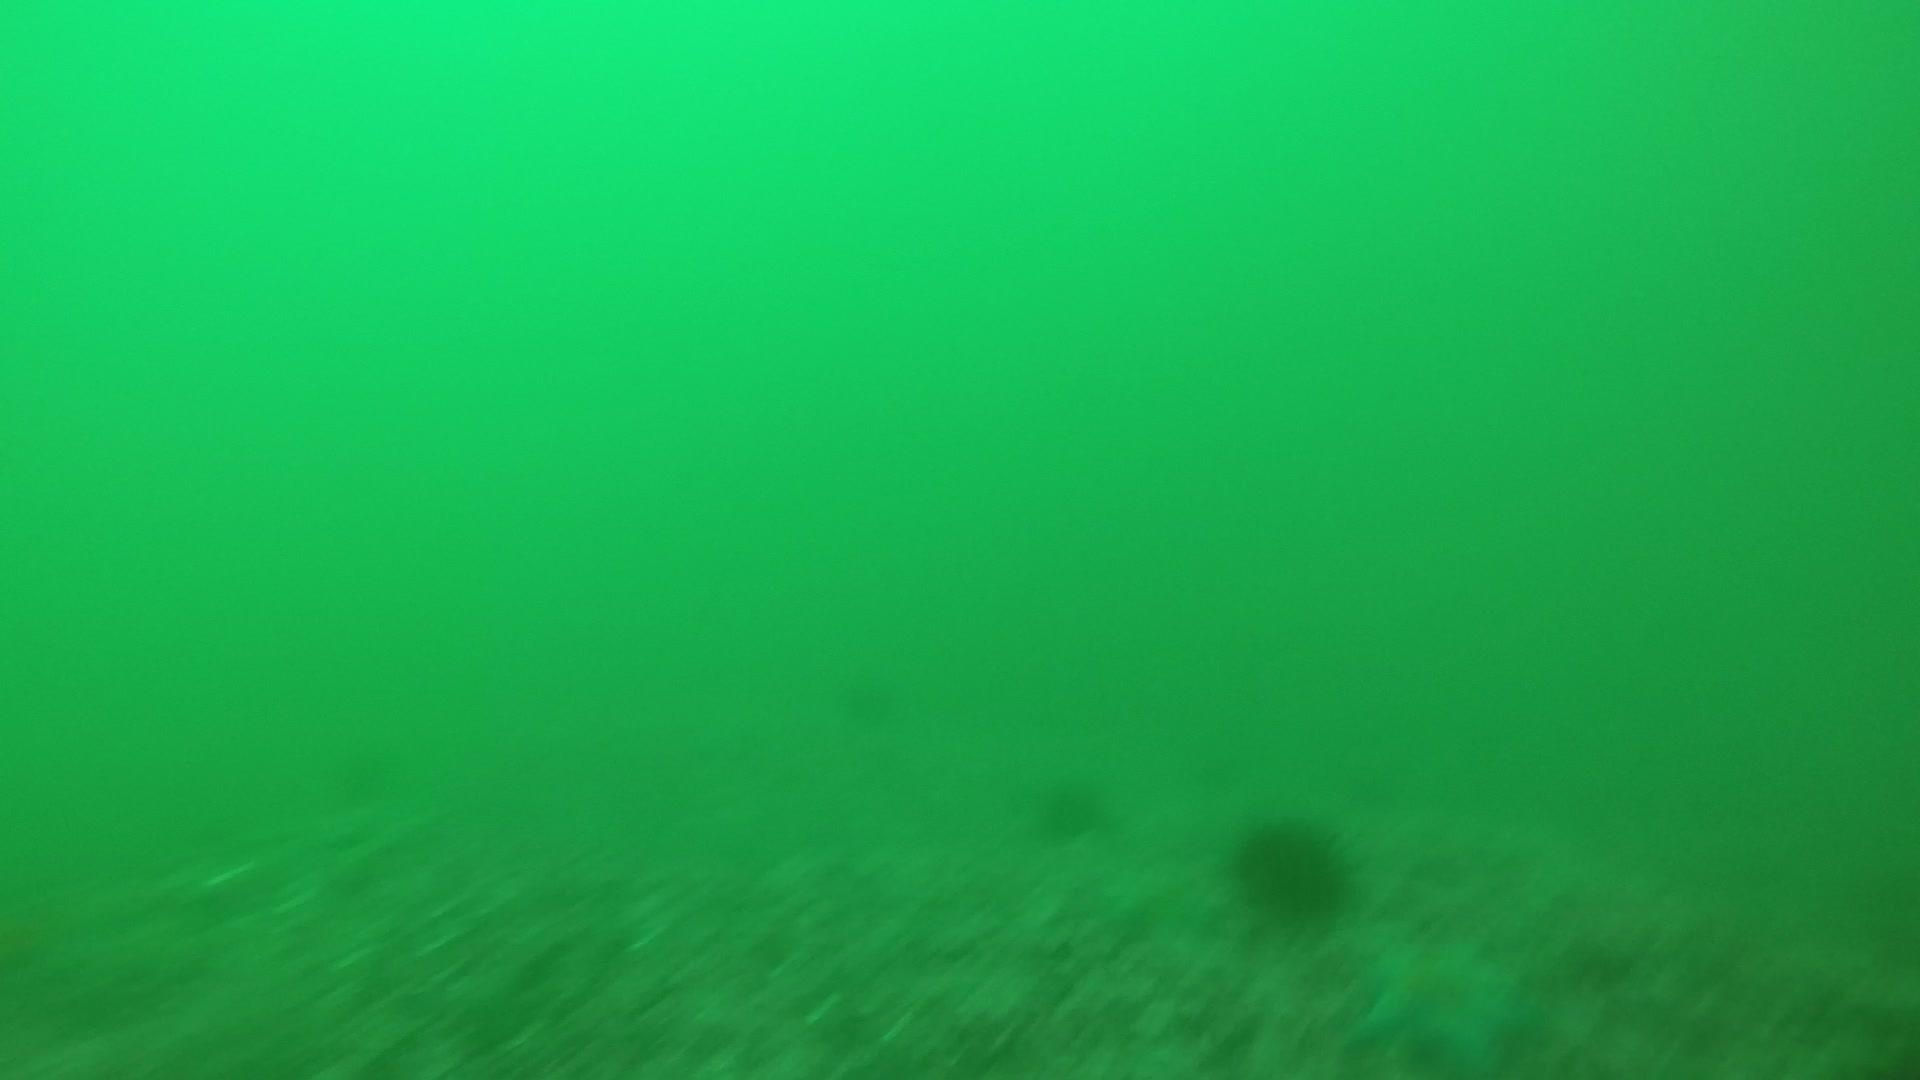echinus: (1226, 810, 1358, 922), (1030, 769, 1112, 843)
starfish: (1344, 924, 1540, 1075)
